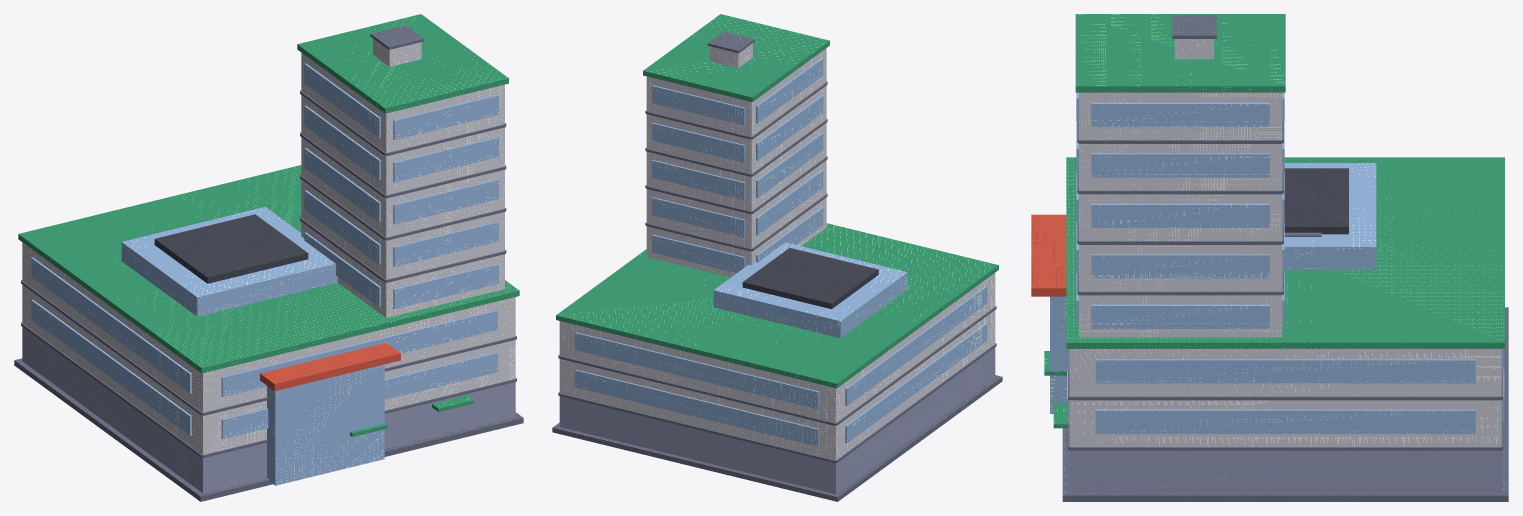
The model's file is mall-2x2-l3.glb.
3 views of the same model, side by side, from view 1: azimuth 30°, elevation 25°; view 2: azimuth 150°, elevation 25°; view 3: azimuth 270°, elevation 25° (orthographic). The views are drawn at different scales.
Parts seen in each view (by area): view 1: mall-2x2-l3; view 2: mall-2x2-l3; view 3: mall-2x2-l3.
Part boxes in pixels (box(x1,y1,x2,y2)): mall-2x2-l3: box(14, 14, 523, 501); mall-2x2-l3: box(552, 14, 1002, 501); mall-2x2-l3: box(1031, 14, 1508, 501).
Bounding box in the file's own units: 3.84 × 4.14 × 4.11.
1 material, 1 textured.
